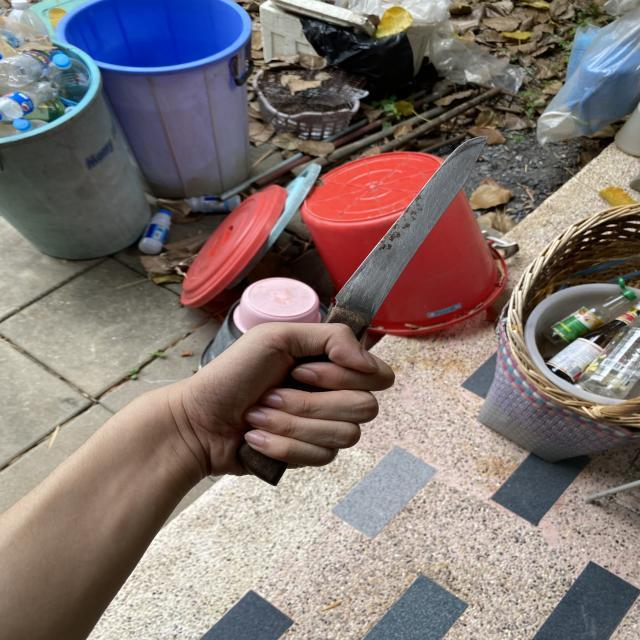faca: (183, 119, 502, 492)
